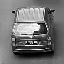motor: (12, 8, 50, 56)
